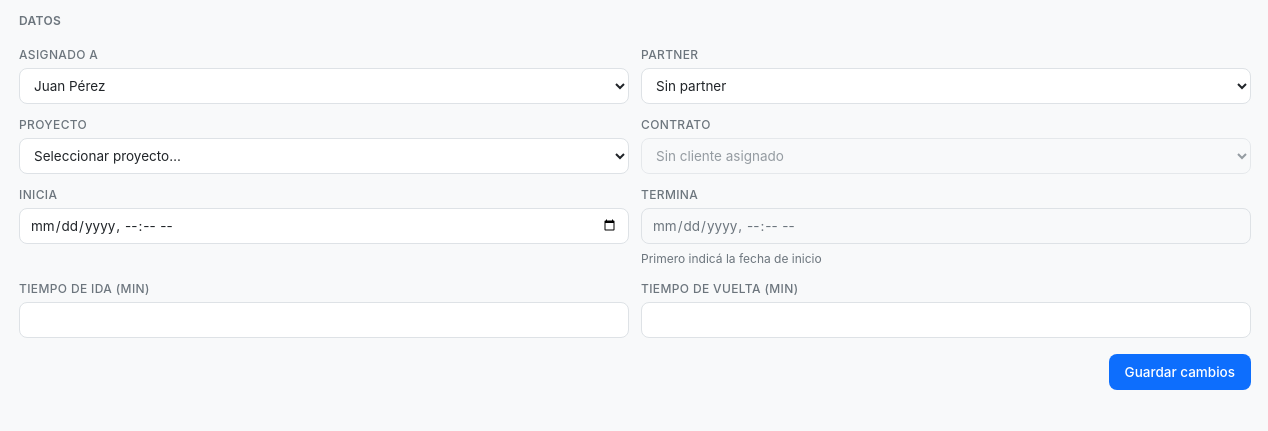
Test: DatosForm › project select › refuses submit when no project selected and shows error
Click the button "Guardar cambios".
click(1180, 372)  # box [1109,354,1251,390]
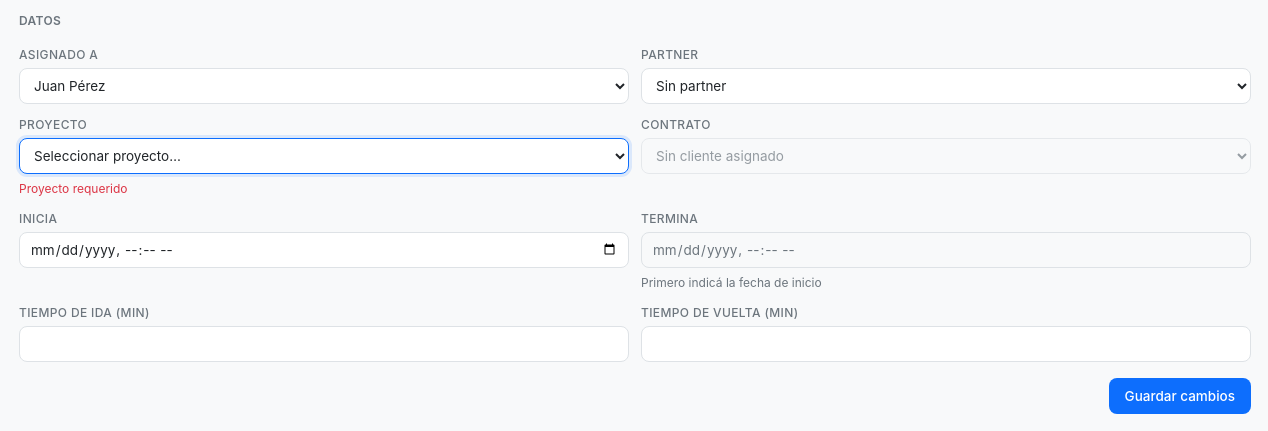
Result: the text "Proyecto requerido" is shown at [19,181,128,196]
